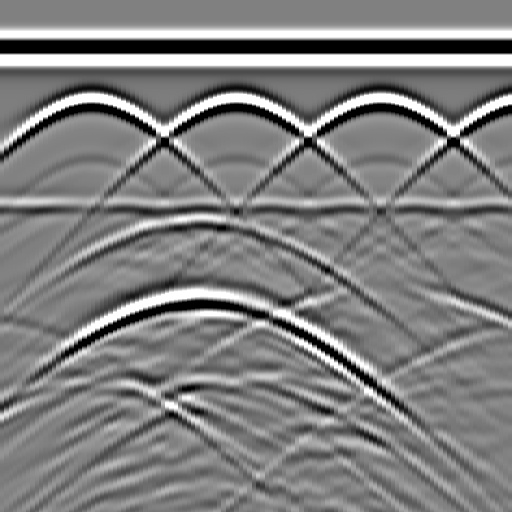grout_surface: (1, 193, 512, 223)
rebar: (69, 82, 109, 122), (214, 82, 254, 122), (358, 82, 398, 122), (502, 82, 512, 122)
rock_surface: (1, 286, 511, 389)
water_void: (169, 196, 229, 236)
